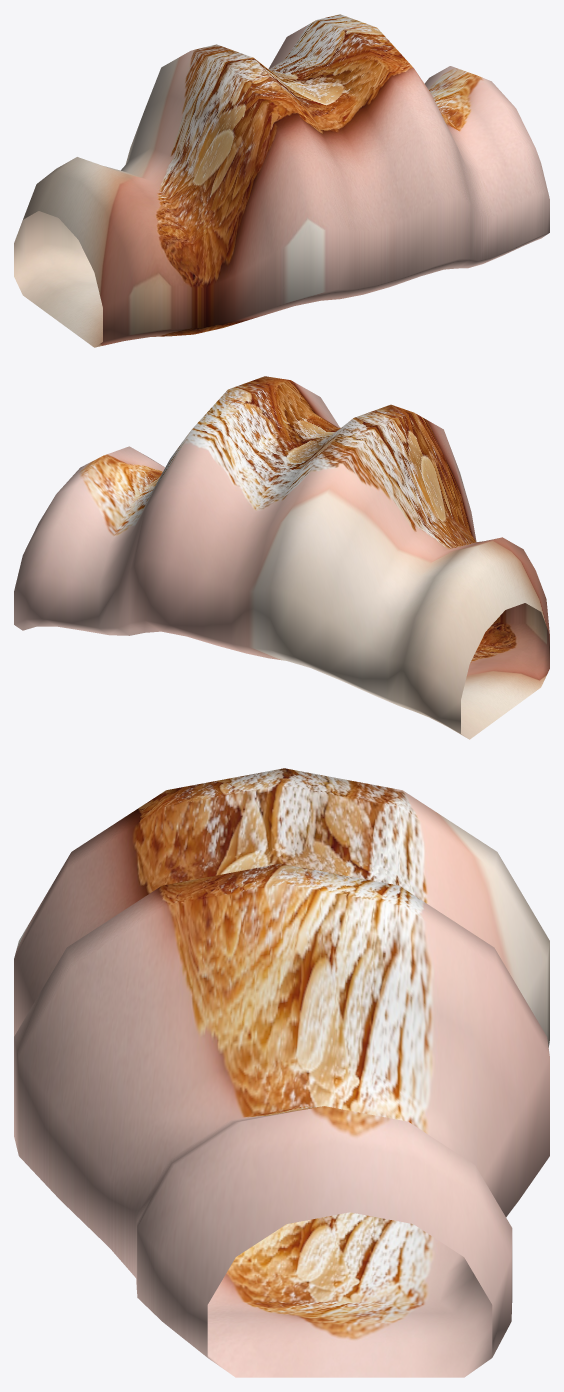
The model's file is prop_croissant_almond.glb.
3 views of the same model, one above another, from view 1: azimuth 30°, elevation 25°; view 2: azimuth 150°, elevation 25°; view 3: azimuth 270°, elevation 25° (orthographic). The views are drawn at different scales.
Parts seen in each view (by area): view 1: prop_croissant_almond; view 2: prop_croissant_almond; view 3: prop_croissant_almond.
Part boxes in pixels (x1,y1,x2,y2): prop_croissant_almond: (14,14,549,347); prop_croissant_almond: (14,376,549,739); prop_croissant_almond: (14,768,549,1377).
Bounding box in the file's own units: 0.1298 × 0.0659 × 0.0844.
1 material, 1 textured.
